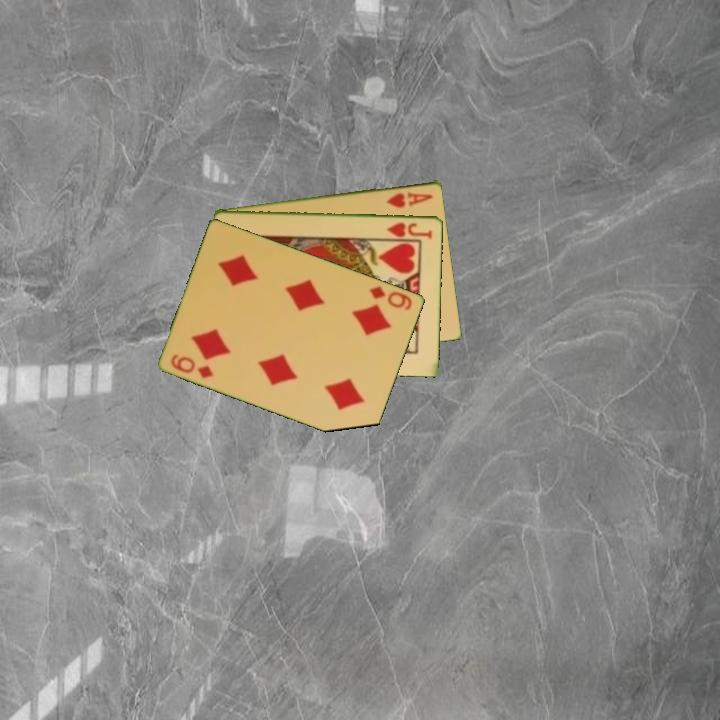6d: (366, 282, 415, 313), (168, 351, 217, 381)
Ah: (383, 188, 436, 210)
Jh: (384, 218, 435, 241)
